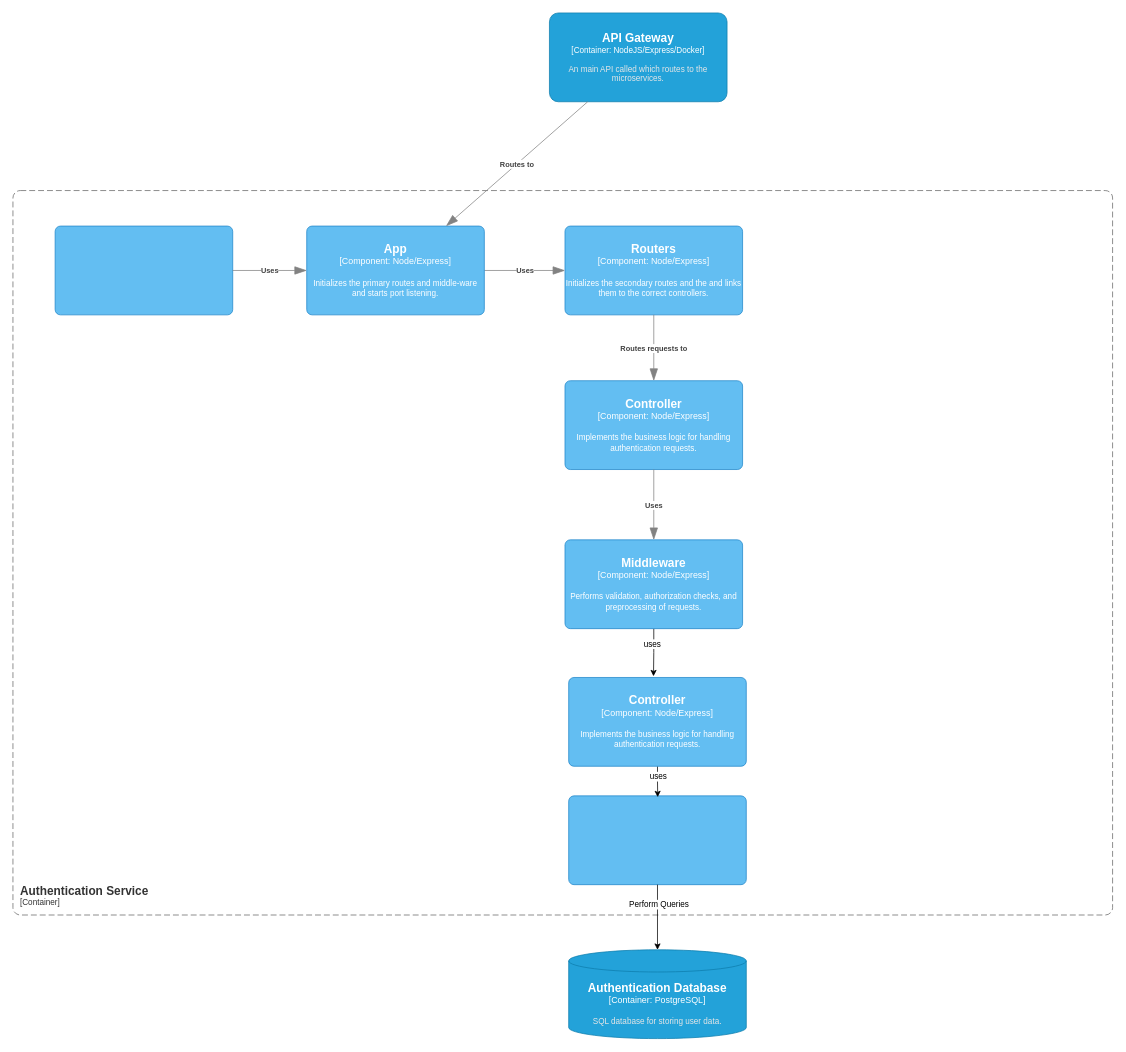
Image size: 1126x1052. Some labels were removed from this diagram. The shapes that lost their labels are listed below. From the top down, each one's centre as x and y in pixels, then its label:
At (x=143, y=270): "Server [Component: Node/Express] Entry point of the service application.".
At (x=657, y=840): "Model [Component: Node/Express] Interfaces with the database.".
